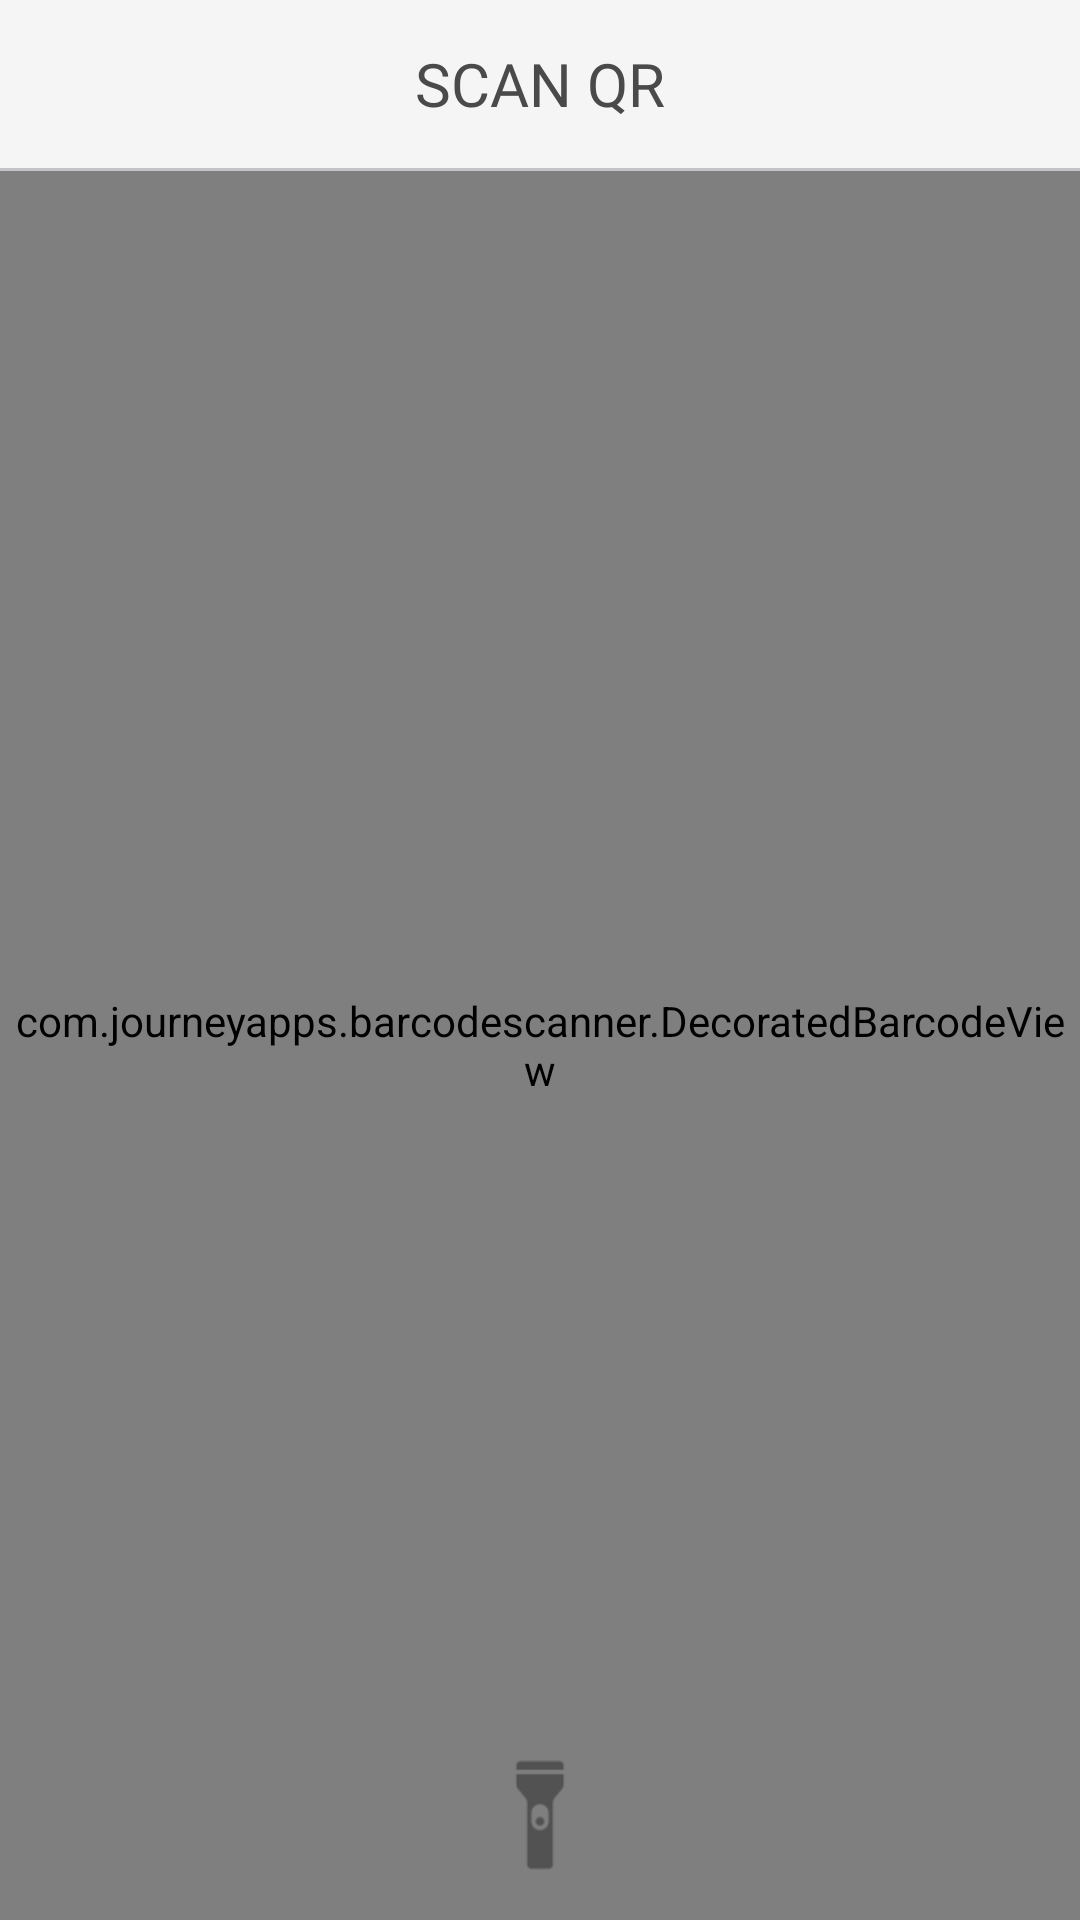

Screen size 1080×1920. Icon name, then its box in pixels as [x1=x1, y1=y1, x2=x2, y2=y2]:
torch: [x1=517, y1=1761, x2=563, y2=1869]
